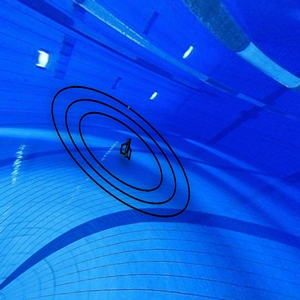circle: (48, 83, 196, 223)
submarine: (115, 135, 139, 161)
